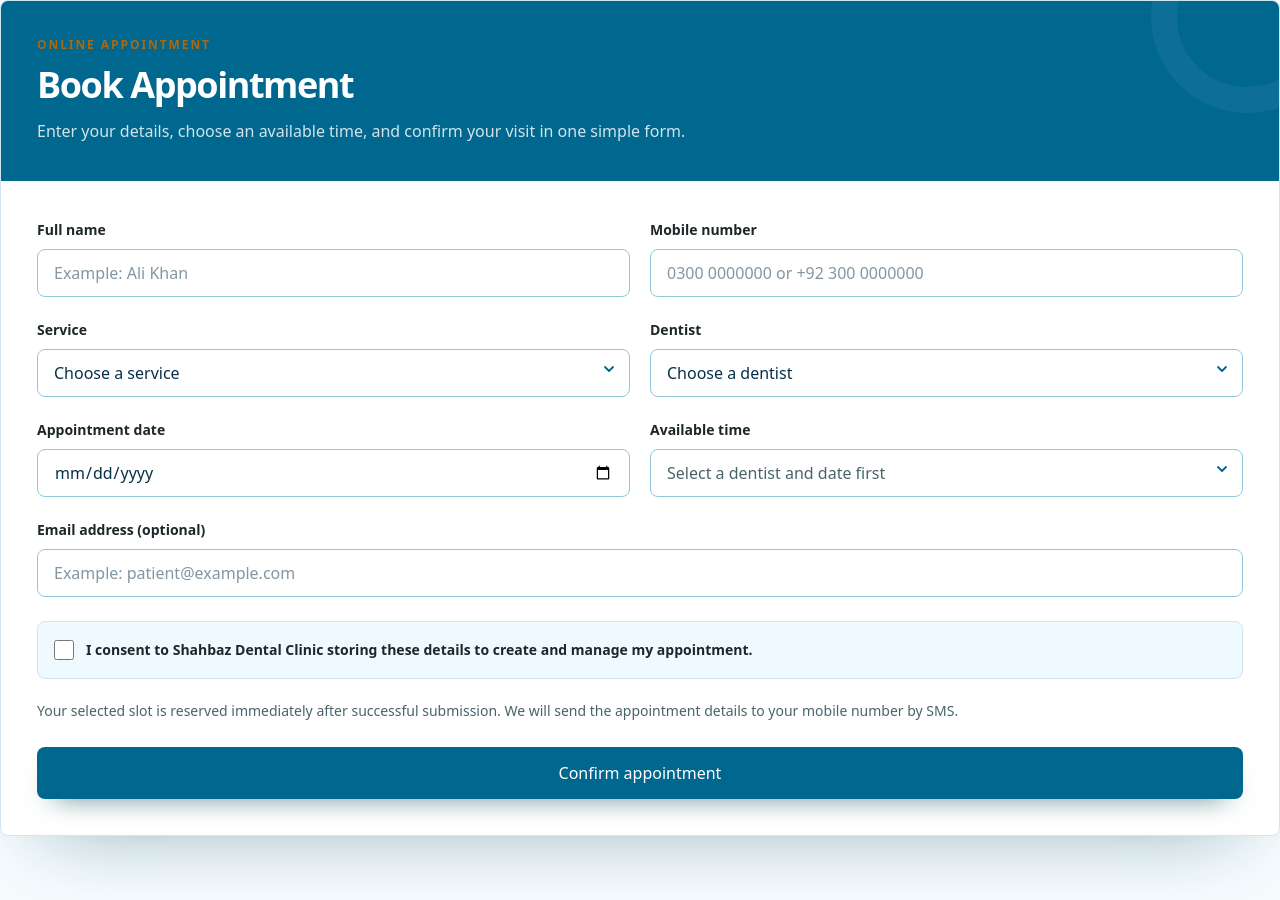
Test: BookingWizard › submits a date-only booking when the server confirms there are no slots
Type "Ali Khan" into the field labelled "Full name" at (334, 273), box [37,249,630,297]
Type "0300 0000000" into the field labelled "Mobile number" at (946, 273), box [650,249,1243,297]
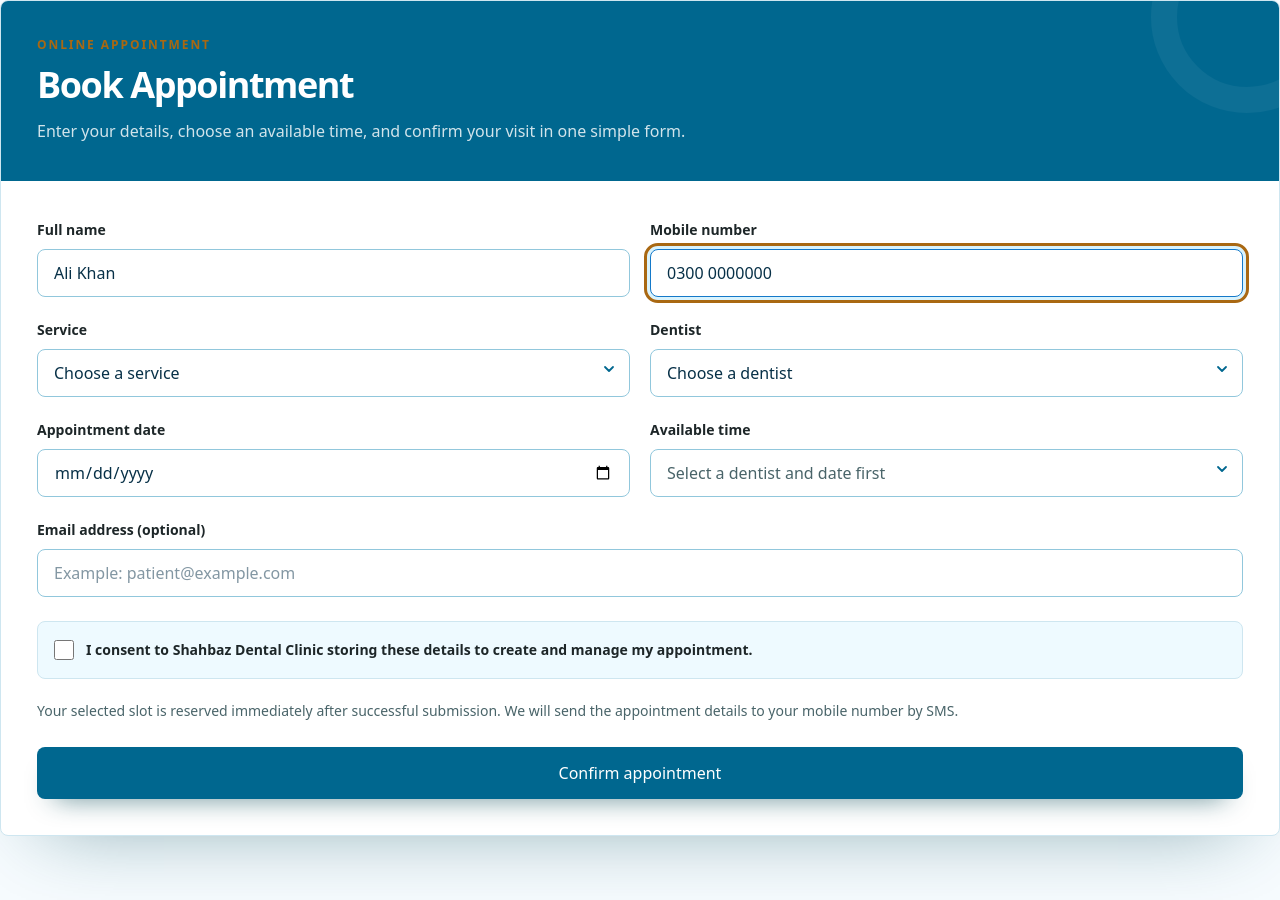
Select "Dental consultation" in the dropdown labelled "Service" at (334, 373), box [37,349,630,397]
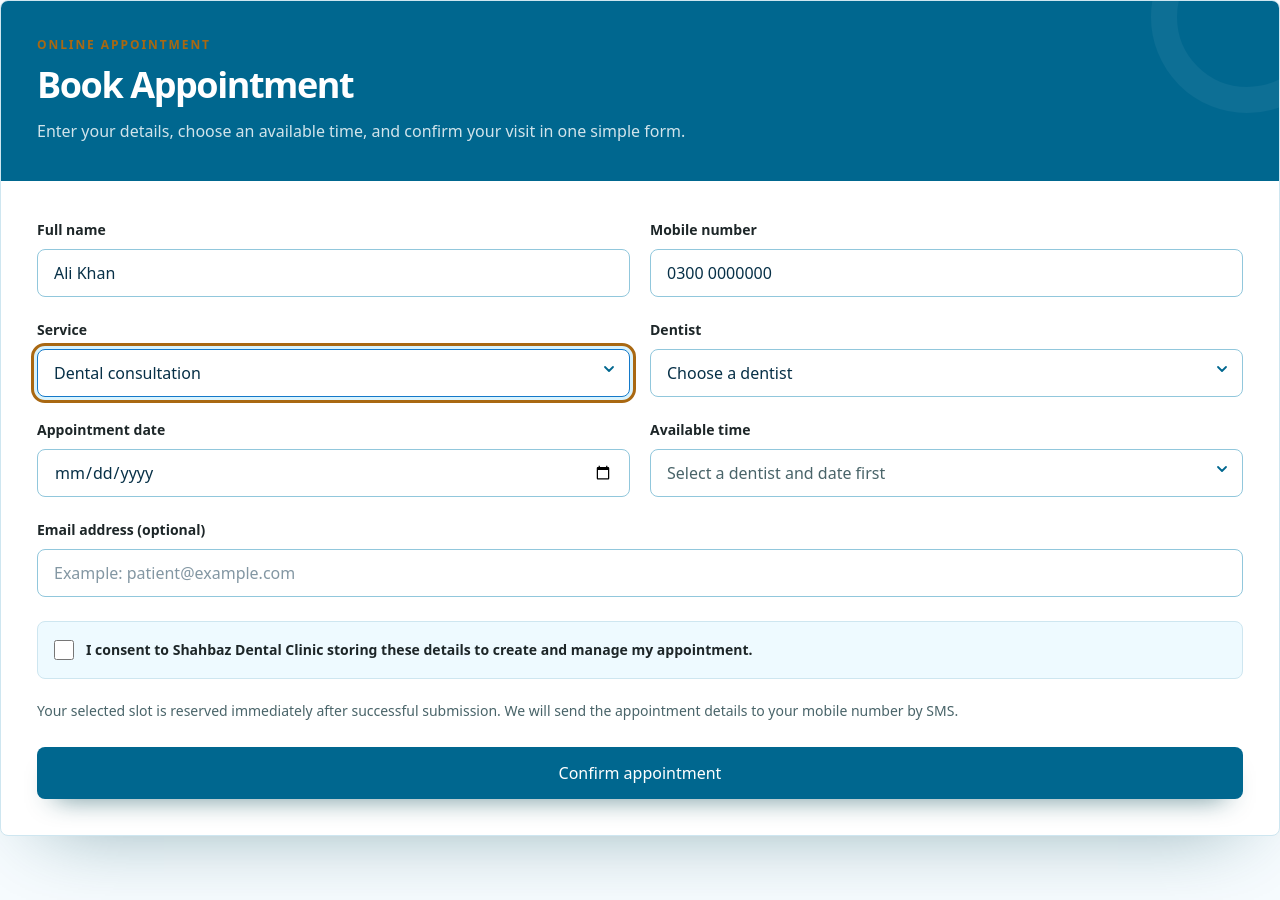
Select "No preference" in the dropdown labelled "Dentist" at (946, 373), box [650,349,1243,397]
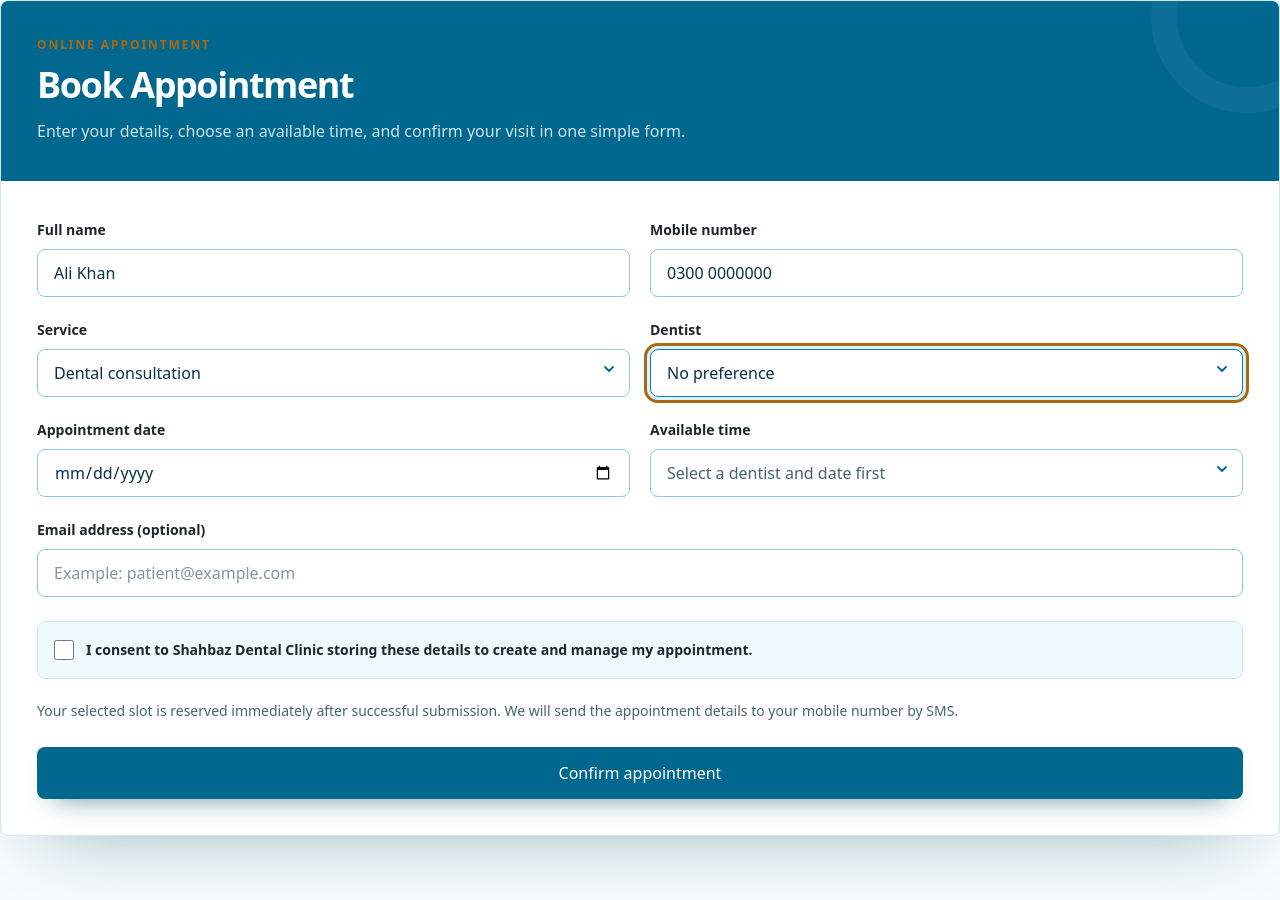
Type "2026-08-31" into the date field labelled "Appointment date" at (334, 473), box [37,449,630,497]
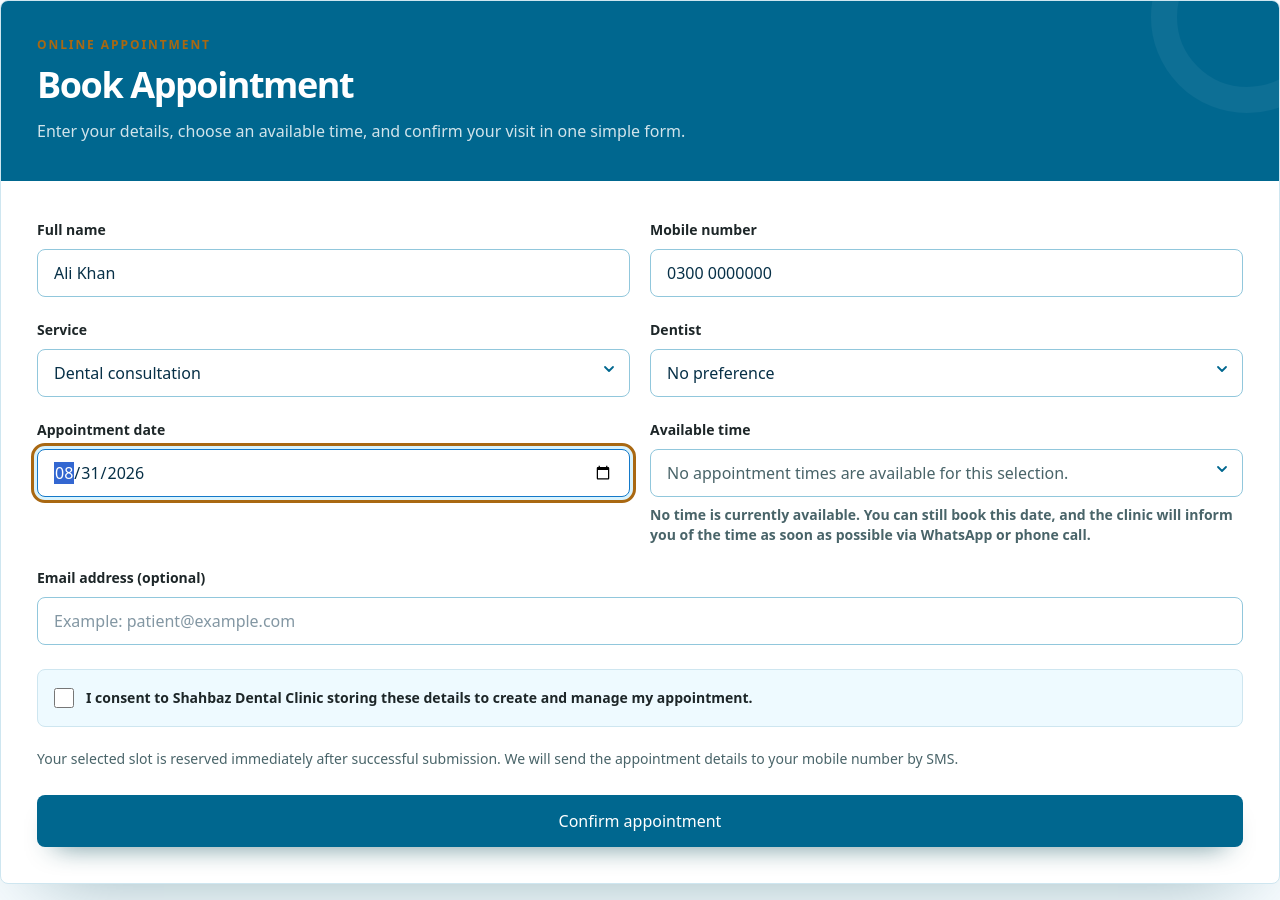
expect the text "No time is currently available. You can still book this date, and the clinic will inform you of the time as soon as poss" is shown: met, box [650,505,1233,544]
Click the checkbox labelled "I consent to Shahbaz Dental Clinic storing these details" at (64, 698), box [54,688,74,708]
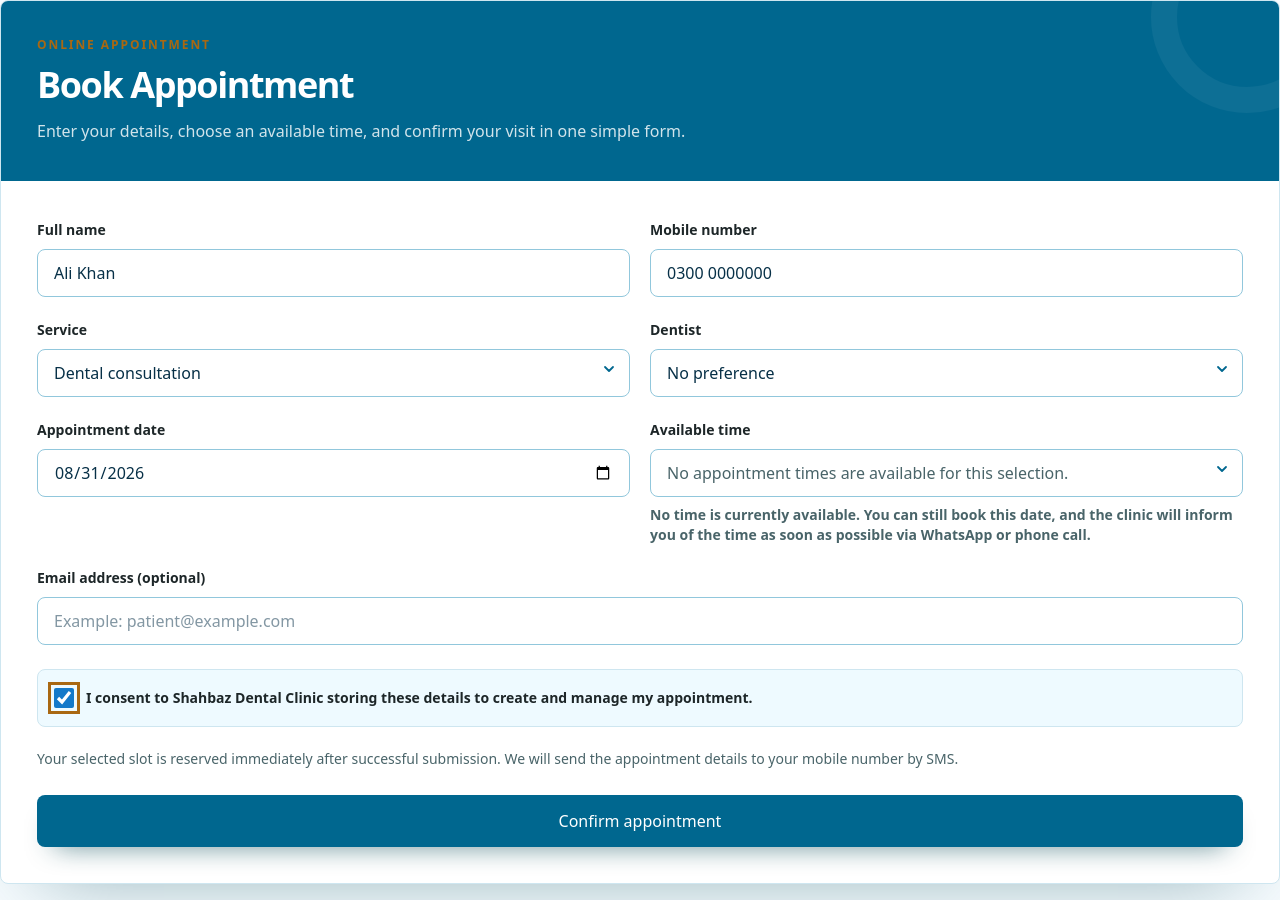
Click the button "Confirm appointment" at (640, 821), box [37,795,1243,847]
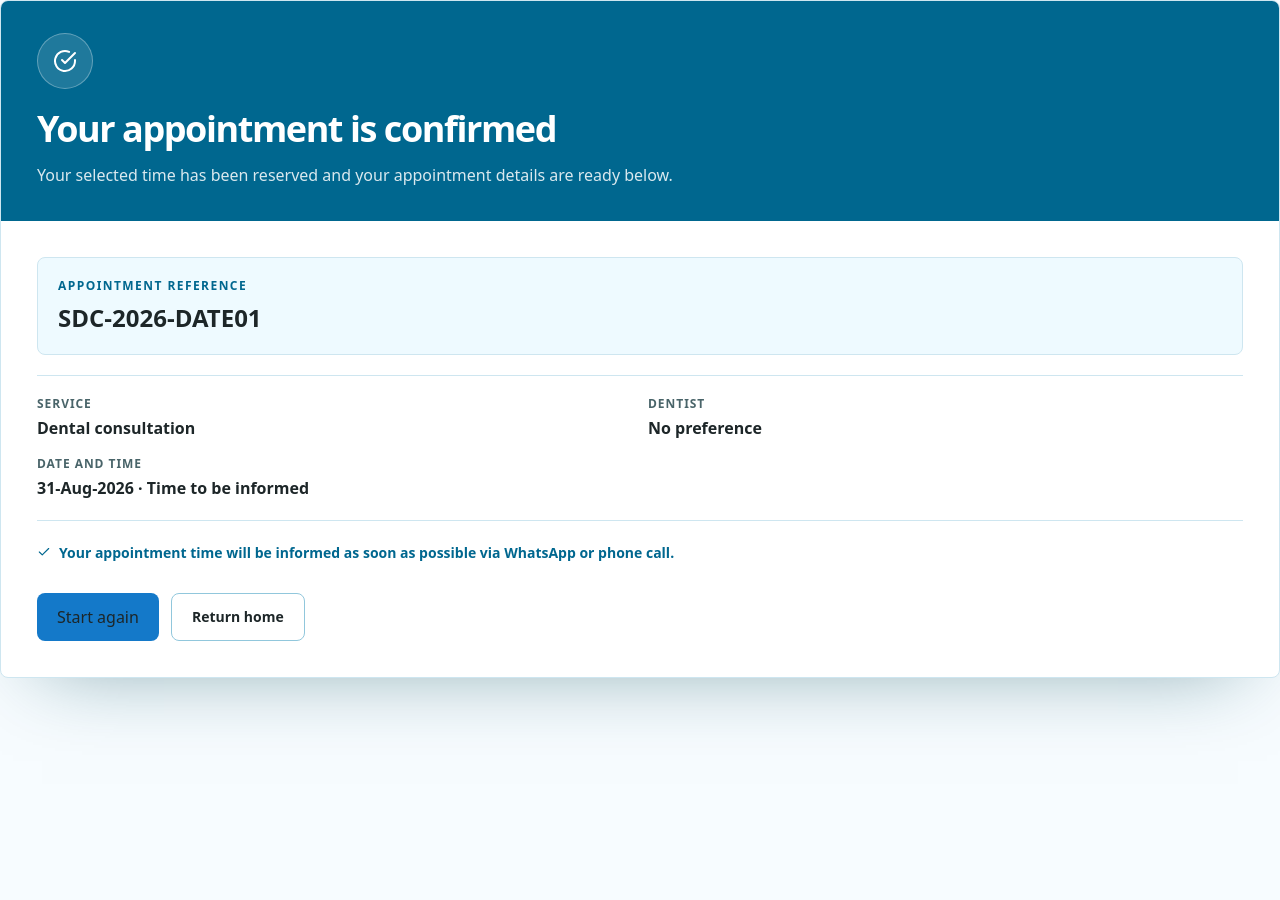
expect the text "Your appointment time will be informed as soon as possible via WhatsApp or phone call." is shown: met, box [59,543,674,562]
